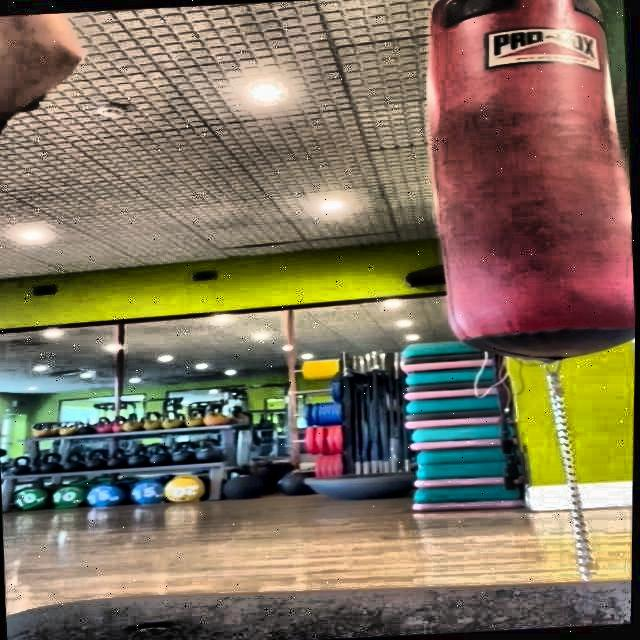boxing-bag: (422, 0, 640, 370)
